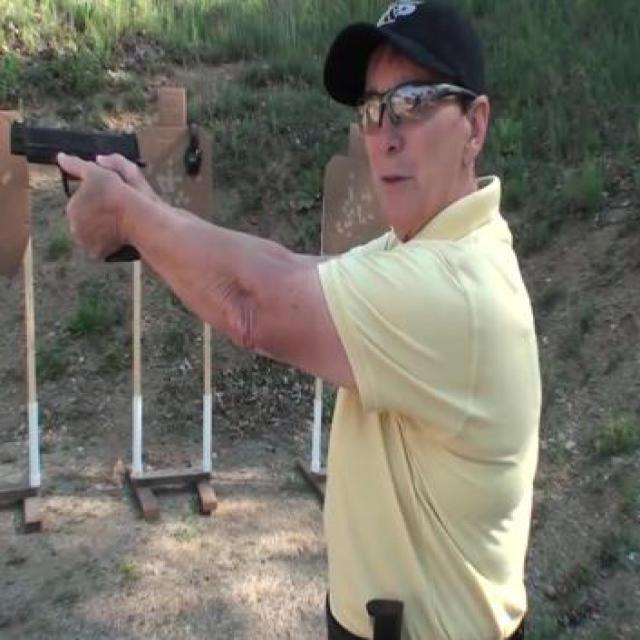weapon: (8, 121, 146, 263)
